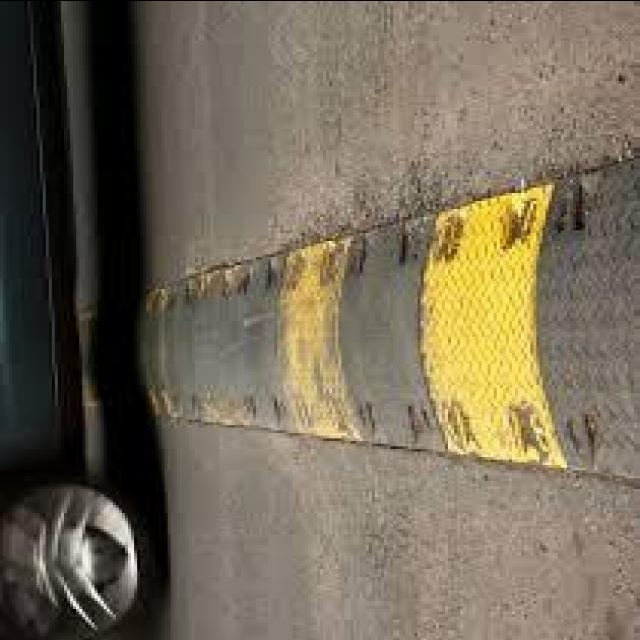speedbreaker: (135, 118, 640, 496)
